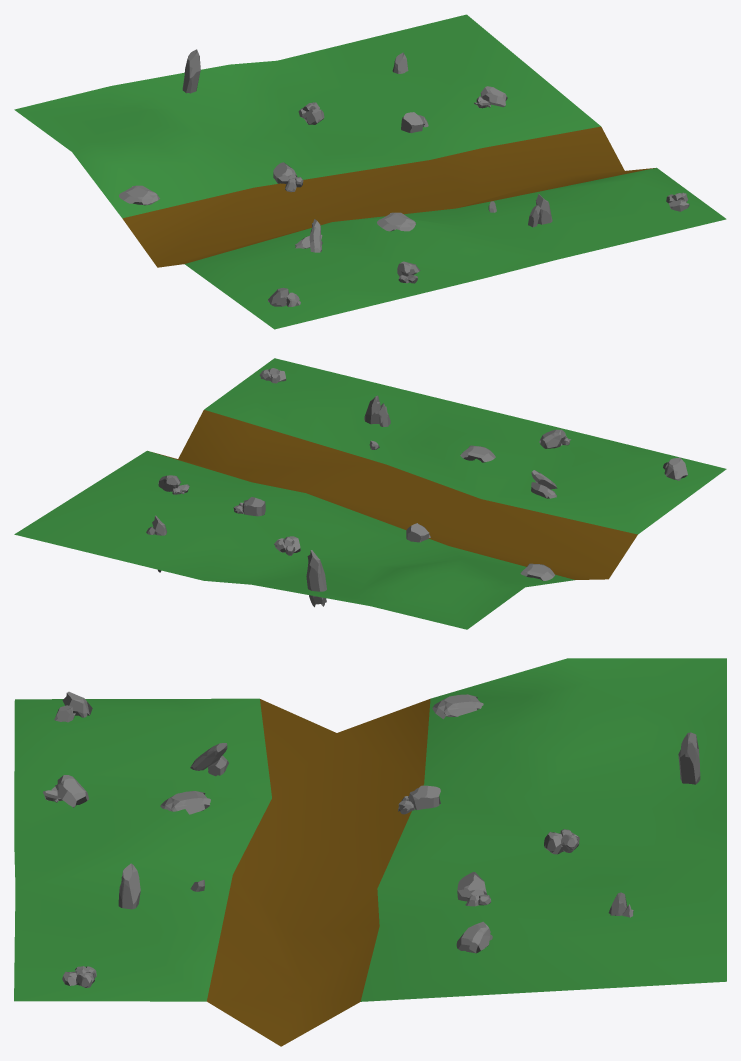
File: ValleyMapExtended.fbx
3 renders of one model, top to bottom at view 1: azimuth 30°, elevation 25°; view 2: azimuth 150°, elevation 25°; view 3: azimuth 270°, elevation 25°, orthographic. The views are drawn at different scales.
Visible parts, largest first — view 1: Valley, Rock.034, Rock.033, Rock.013; view 2: Valley, Rock.034; view 3: Valley, Rock.034, Rock.033, Rock.013, Rock.012, Rock.028, Rock, Rock.014, Rock.023.
Boxes of the visible parts, left/top/right/bottom form: Valley: left=14, top=14, right=726, bottom=329; Rock.034: left=182, top=49, right=200, bottom=93; Rock.033: left=119, top=185, right=159, bottom=205; Rock.013: left=377, top=212, right=415, bottom=231; Valley: left=14, top=358, right=726, bottom=629; Rock.034: left=306, top=550, right=326, bottom=607; Valley: left=14, top=658, right=726, bottom=1046; Rock.034: left=678, top=732, right=700, bottom=784; Rock.033: left=432, top=694, right=483, bottom=719; Rock.013: left=160, top=791, right=210, bottom=814; Rock.012: left=118, top=863, right=140, bottom=909; Rock.028: left=456, top=921, right=490, bottom=953; Rock: left=55, top=775, right=88, bottom=807; Rock.014: left=408, top=785, right=440, bottom=809; Rock.023: left=457, top=872, right=486, bottom=901.
Size of the model in its own units: 4008 by 770 by 3983.
